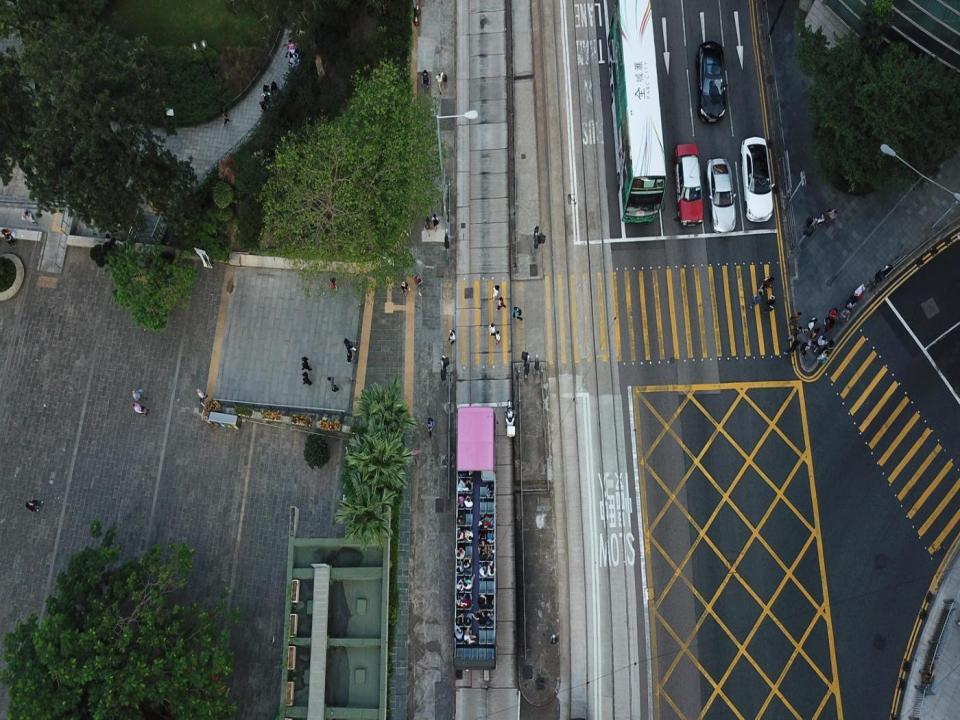bus: (609, 3, 666, 222)
car: (741, 137, 775, 220), (674, 142, 704, 224), (697, 41, 726, 125), (707, 158, 736, 232)
